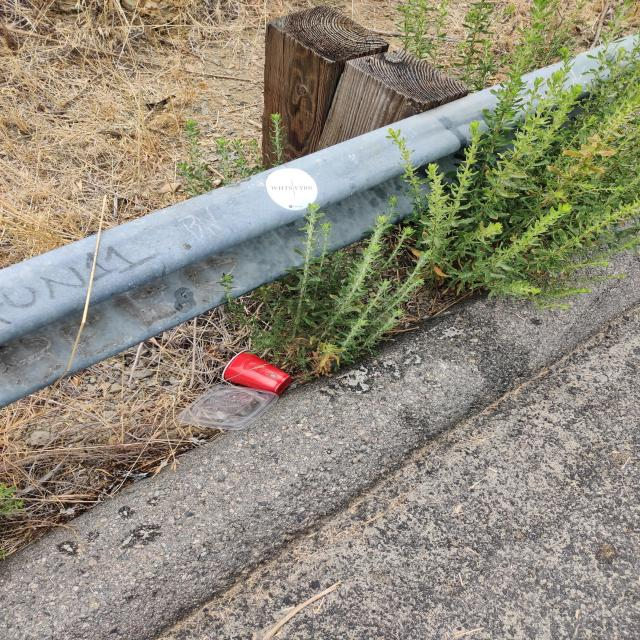litter: (175, 382, 277, 431), (223, 350, 291, 393)
